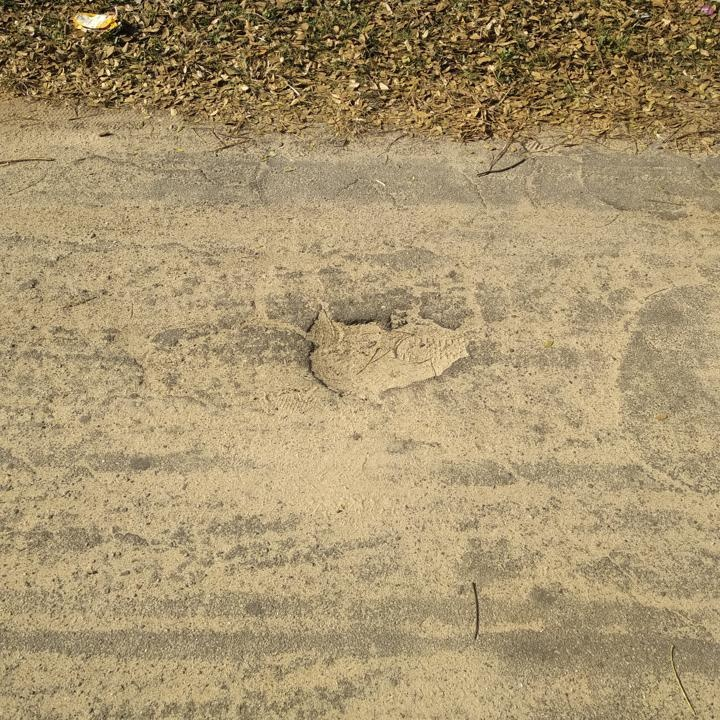pothole: (298, 298, 476, 396)
